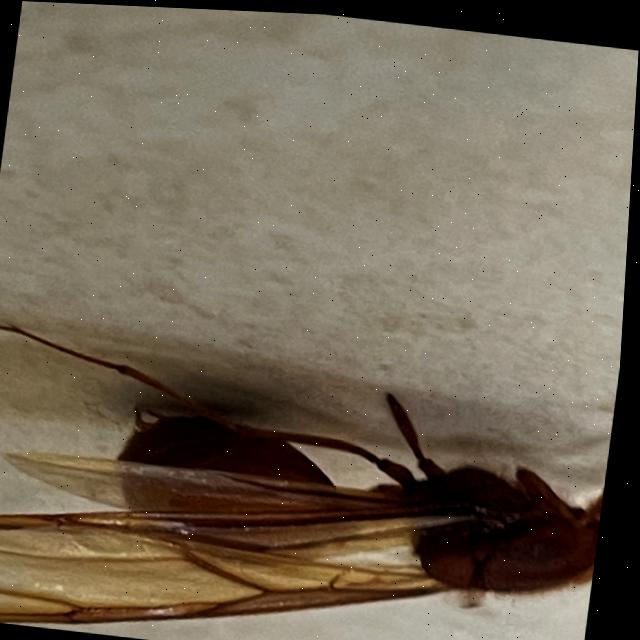Alive-Male-Alate: (0, 320, 622, 640)
